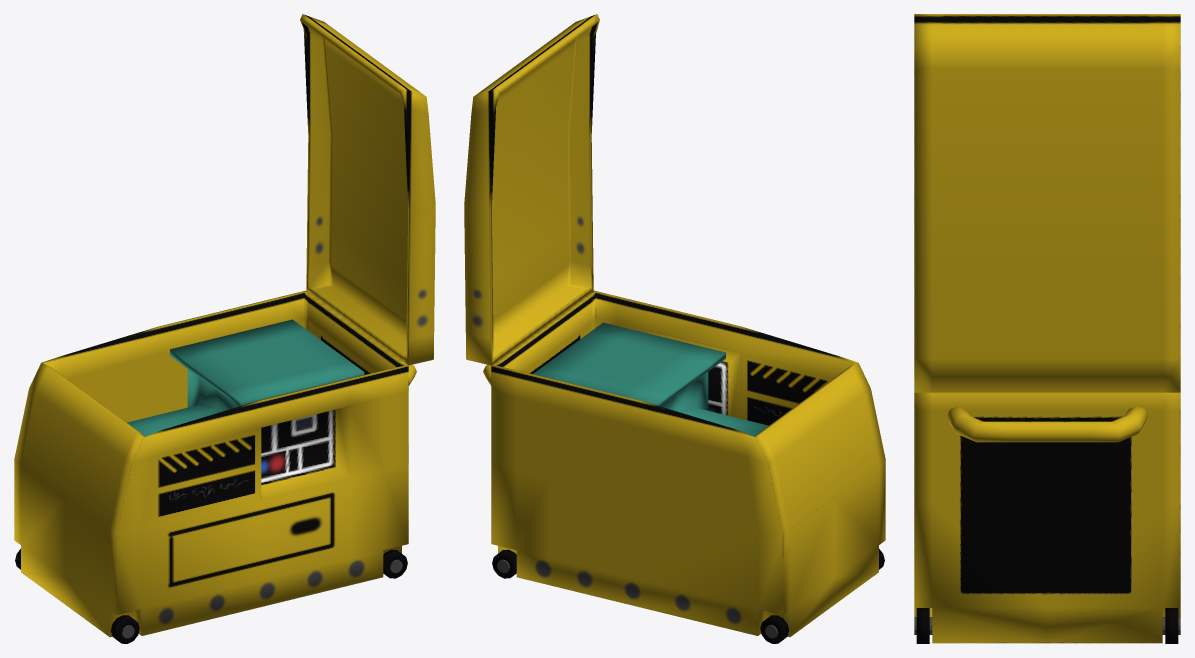
Rendered from generatore.fbx.
3 renders of one model, left to right at view 1: azimuth 30°, elevation 25°; view 2: azimuth 150°, elevation 25°; view 3: azimuth 270°, elevation 25°, orthographic. The views are drawn at different scales.
Visible parts, largest first — view 1: scocca_inferiore, alternatore; view 2: scocca_inferiore, alternatore; view 3: scocca_inferiore.
Part boxes in pixels (bbox=[...]): scocca_inferiore: bbox=[14, 14, 435, 643]; alternatore: bbox=[127, 319, 364, 436]; scocca_inferiore: bbox=[464, 14, 885, 643]; alternatore: bbox=[533, 322, 768, 436]; scocca_inferiore: bbox=[914, 14, 1180, 643].
Bounding box in the file's own units: 1073 × 1548 × 590.
